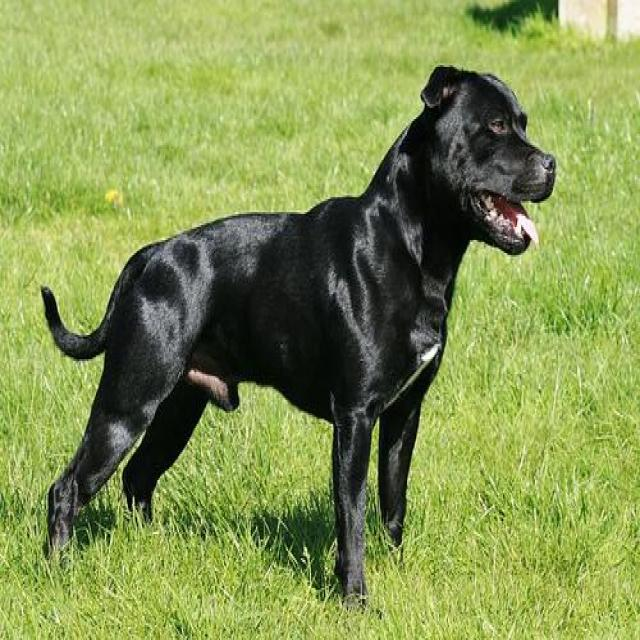staffordshire_bullterrier: (38, 61, 562, 622)
